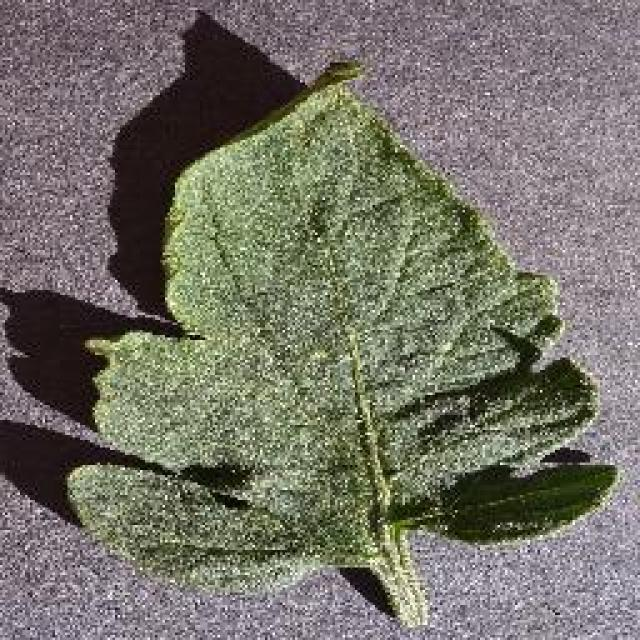Tomato___healthy: (60, 53, 625, 625)
